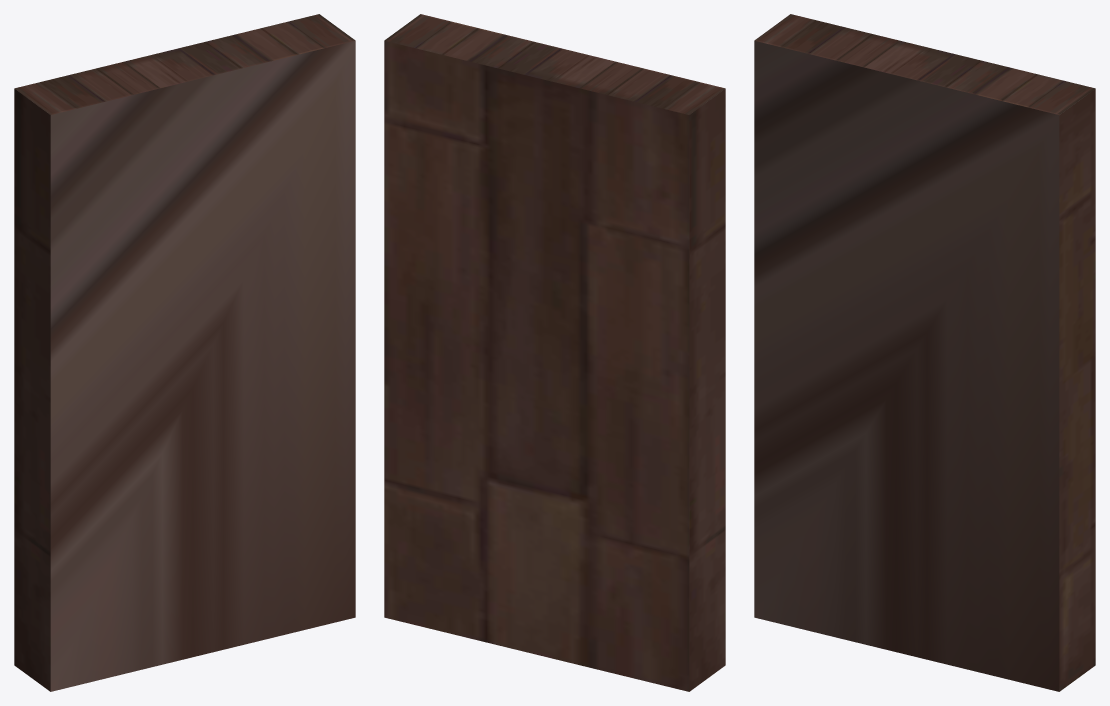
Rendered from woodBlock (35).fbx.
3 renders of one model, left to right at view 1: azimuth 30°, elevation 25°; view 2: azimuth 150°, elevation 25°; view 3: azimuth 330°, elevation 25°, orthographic.
Visible parts, largest first — view 1: woodBlock (35); view 2: woodBlock (35); view 3: woodBlock (35).
Boxes of the visible parts, x1,y1,x2,y2 form: woodBlock (35): (14,14,355,691); woodBlock (35): (384,14,725,691); woodBlock (35): (754,14,1095,691).
Size of the model in its own units: 36.12 by 65.23 by 7.47.
